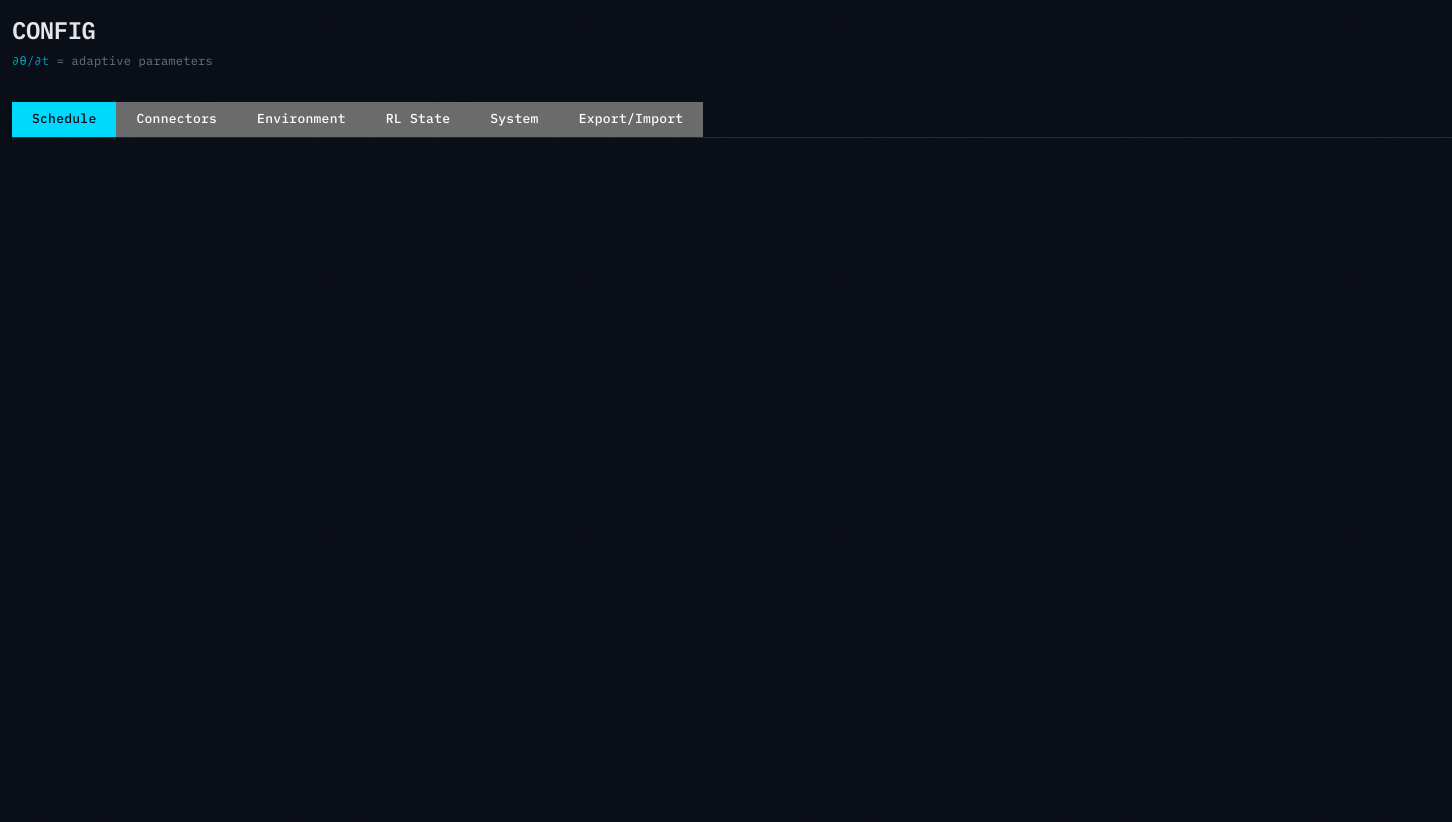
Scenario: Config calibration states (Phase 4, L6/L12 — mockup 03) › renders all four honest states with label evidence
Click the button "RL State".
click(418, 120)  # box [366,102,470,137]
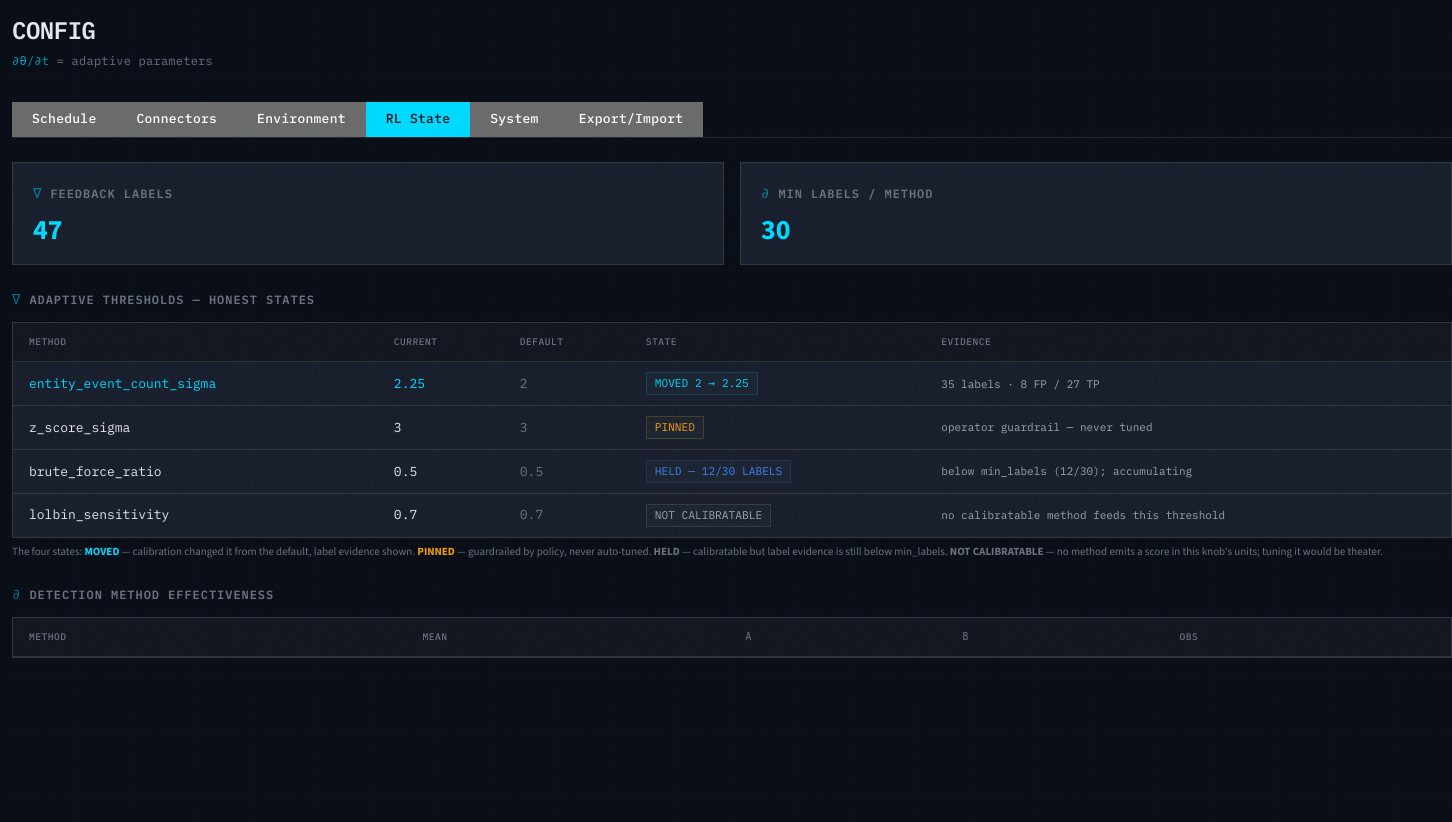
Expected: the text "ADAPTIVE THRESHOLDS — HONEST STATES" is shown, [29,292,315,306]
Expected: the text "MOVED 2 → 2.25" is shown, [646,372,758,395]
Expected: the text "35 labels · 8 FP / 27 TP" is shown, [925,362,1451,406]
